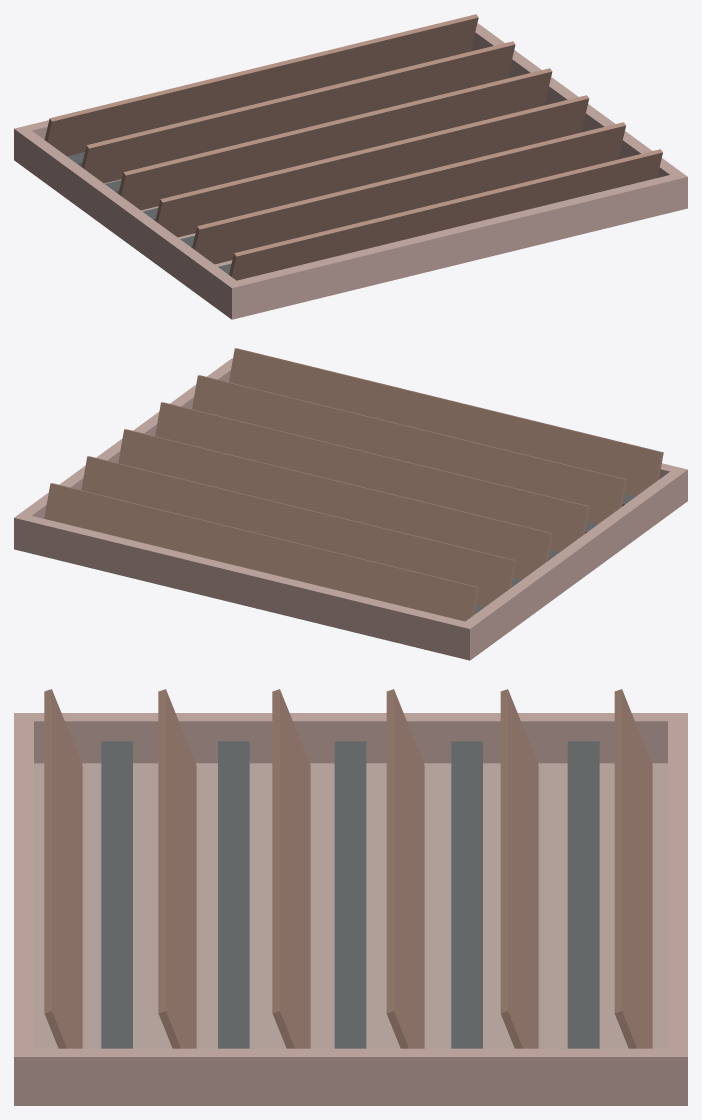
Rendered from SM_cig_box001.fbx.
3 views of the same model, one above another, from view 1: azimuth 30°, elevation 25°; view 2: azimuth 150°, elevation 25°; view 3: azimuth 270°, elevation 25° (orthographic). The views are drawn at different scales.
Visible parts, largest first — view 1: cig_box001; view 2: cig_box001; view 3: cig_box001.
Part boxes in pixels (<box>): cig_box001: <box>14,14,687,319</box>; cig_box001: <box>14,348,687,660</box>; cig_box001: <box>14,689,687,1105</box>.
Size of the model in its own units: 196 by 22.52 by 162.
